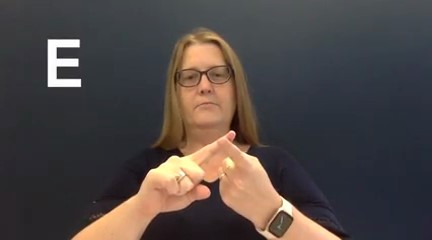E: (135, 129, 266, 212)
